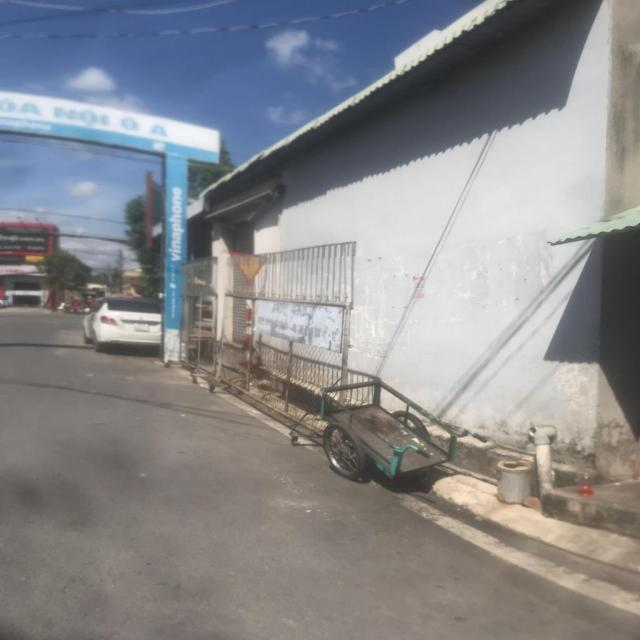208-giao-nhau-voi-duong-uu-tien: (228, 251, 268, 281)
